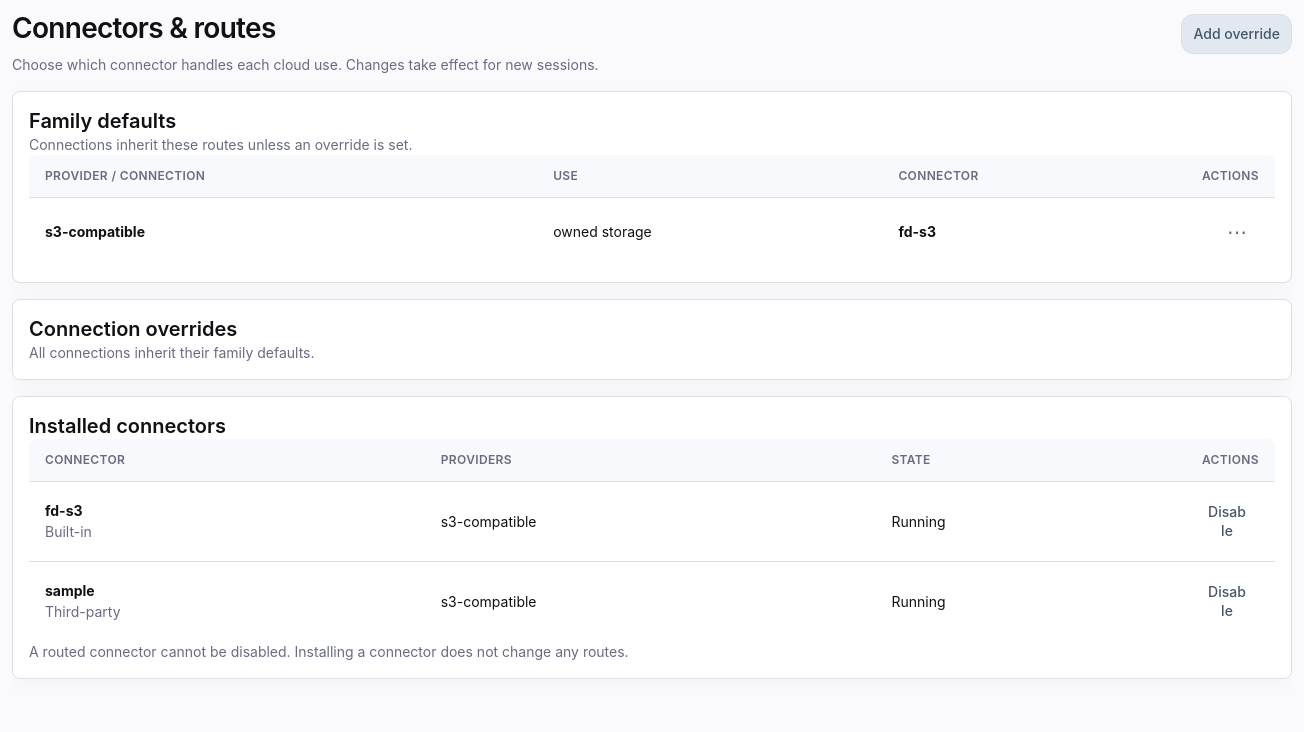
Test case: read-only administrators can inspect routes but cannot change them
The image size is (1304, 732).
Click the button named "Actions for s3-compatible owned storage default".
click(1237, 232)  # box [1215, 210, 1259, 254]
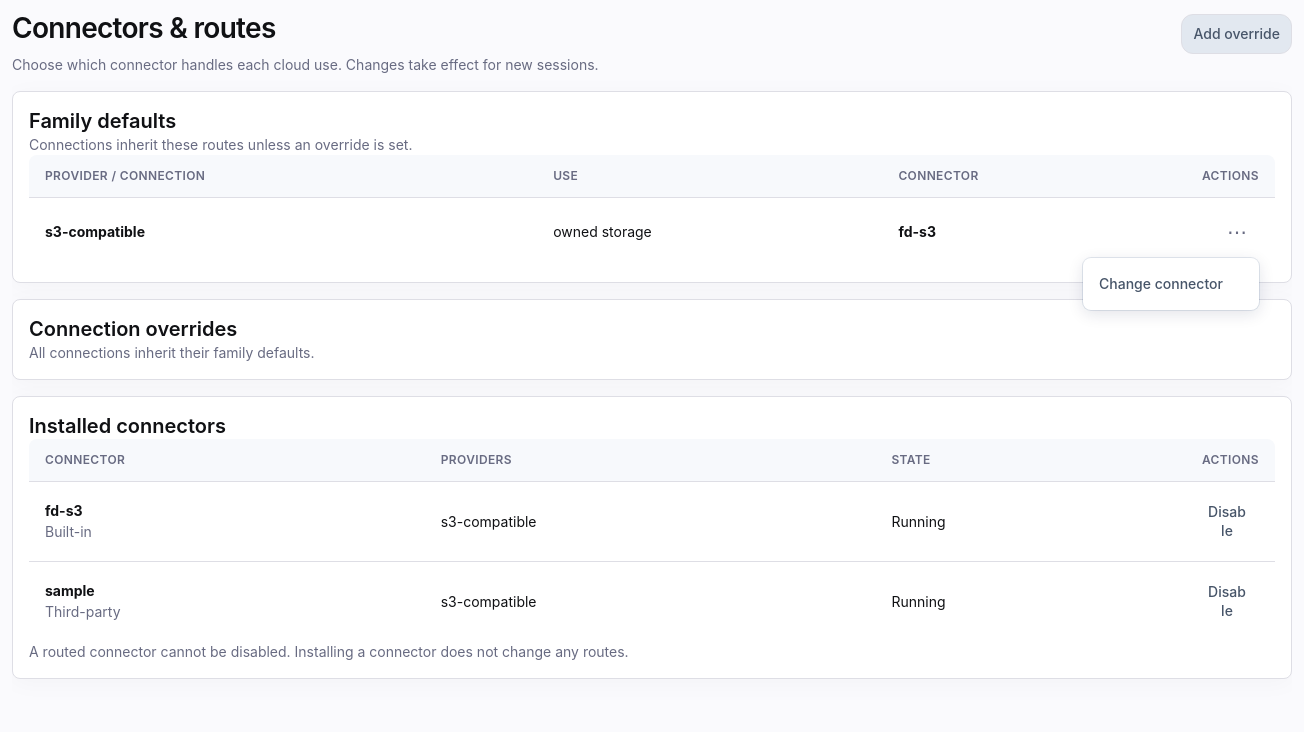
Check: the table named "Family defaults" is shown, box [29, 155, 1275, 266]
Check: the button "Change connector" is disabled, box [1087, 262, 1255, 306]
